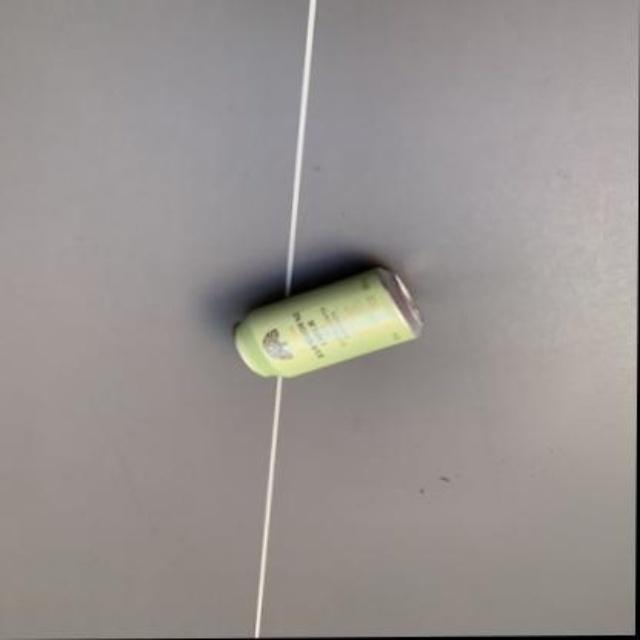trash: (235, 268, 422, 375)
